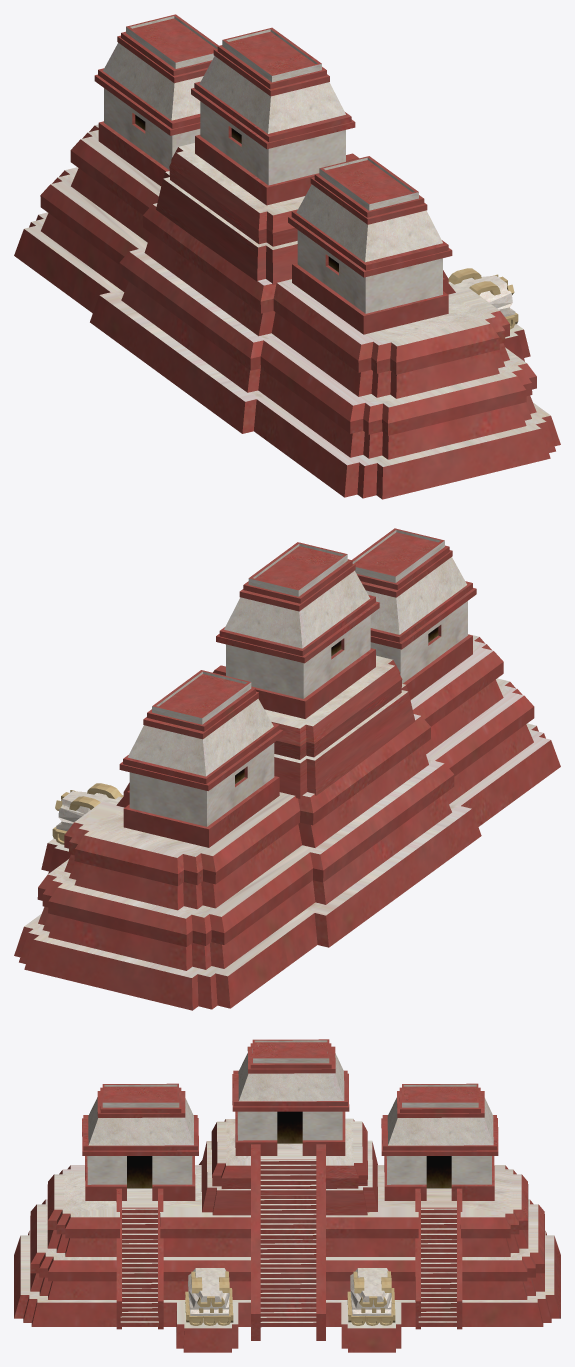
Rendered from piramide_tri_2.dae.
3 renders of one model, top to bottom at view 1: azimuth 30°, elevation 25°; view 2: azimuth 150°, elevation 25°; view 3: azimuth 270°, elevation 25°, orthographic. The views are drawn at different scales.
Parts seen in each view (by area): view 1: tria_2; view 2: tria_2; view 3: tria_2.
Part boxes in pixels (x1,y1,x2,y2): tria_2: (14, 14, 560, 499); tria_2: (14, 528, 560, 1010); tria_2: (14, 1039, 560, 1352).
Bounding box in the file's own units: 16.83 × 34.83 × 16.31.
